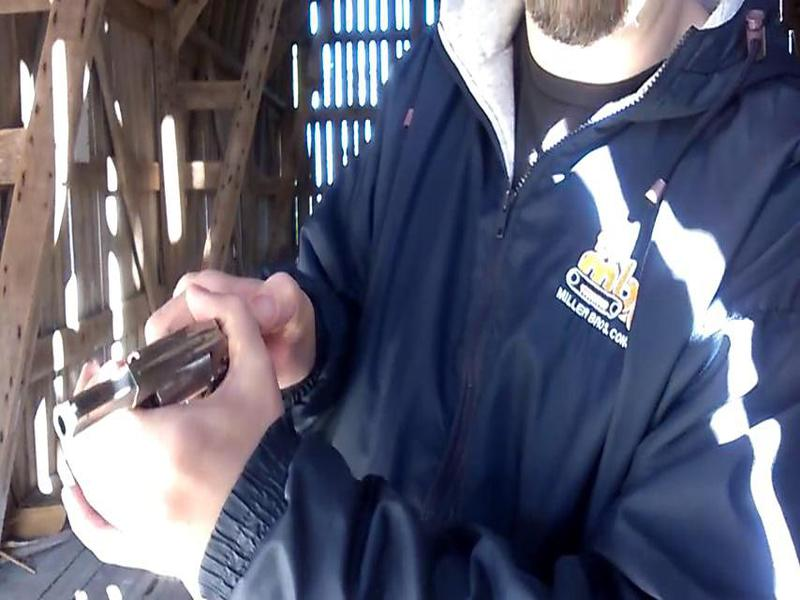Revolver: (31, 303, 244, 473)
